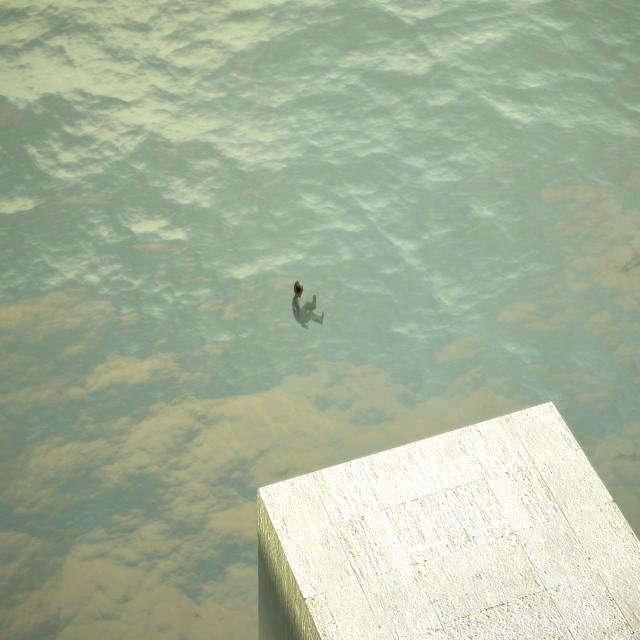Human: (288, 278, 325, 329)
